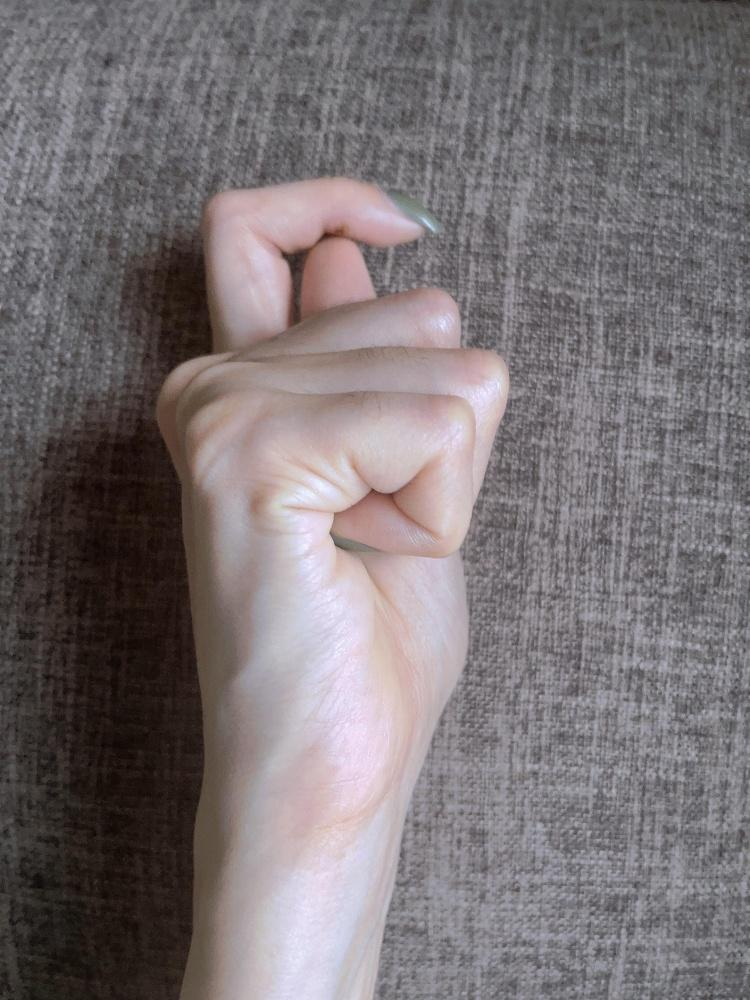t: (151, 171, 513, 848)
